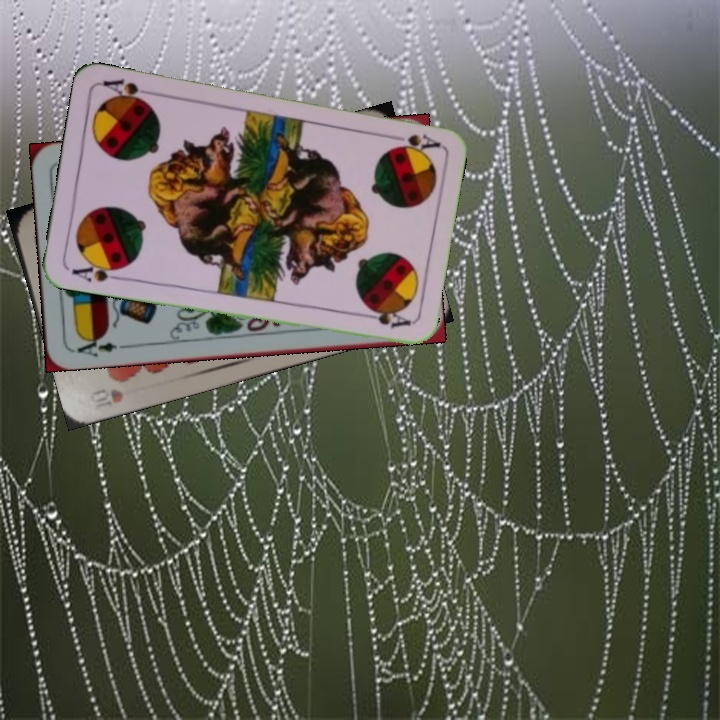EA: (70, 332, 129, 360)
H10: (85, 384, 126, 407)
SA: (68, 256, 127, 285), (383, 129, 442, 153)
